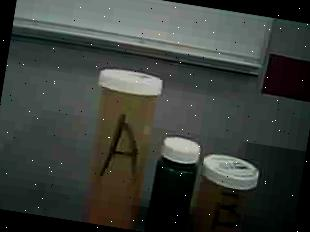Bottle A: (71, 60, 166, 231)
Bottle B: (191, 150, 261, 232)
Bottle C: (143, 131, 206, 232)
